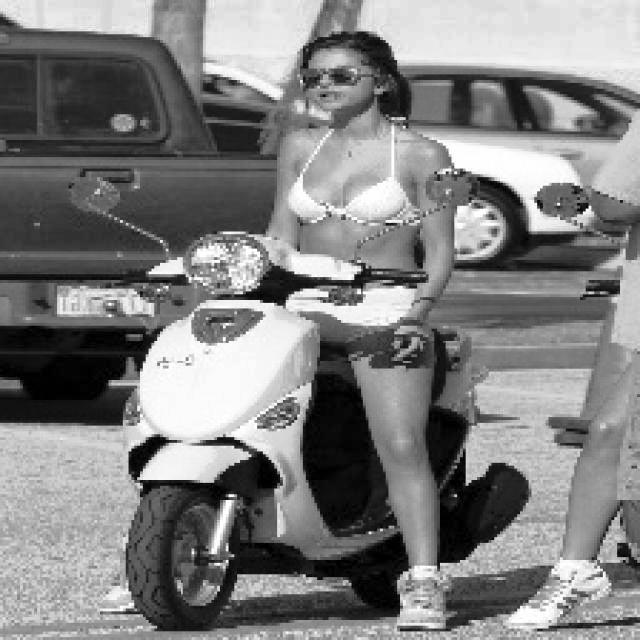Bike: (134, 238, 494, 610)
